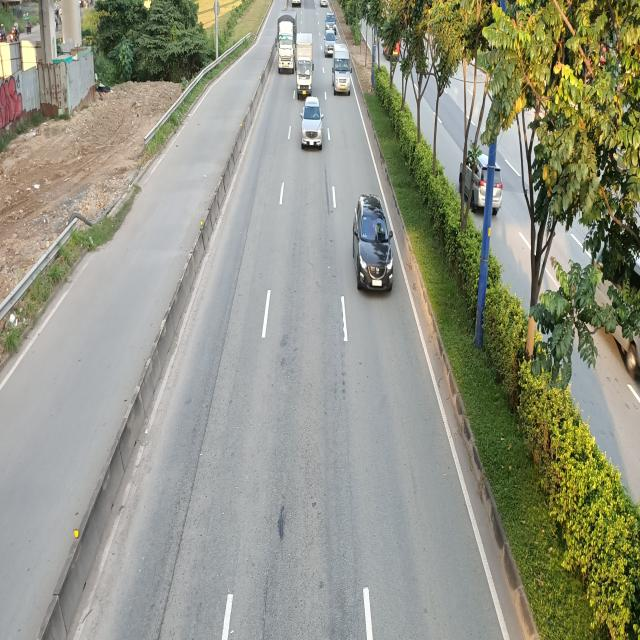car: (351, 192, 394, 294), (299, 98, 322, 152), (324, 30, 336, 56), (320, 0, 329, 8)
truck: (278, 8, 298, 72), (294, 34, 314, 98)
van: (332, 44, 353, 96)
